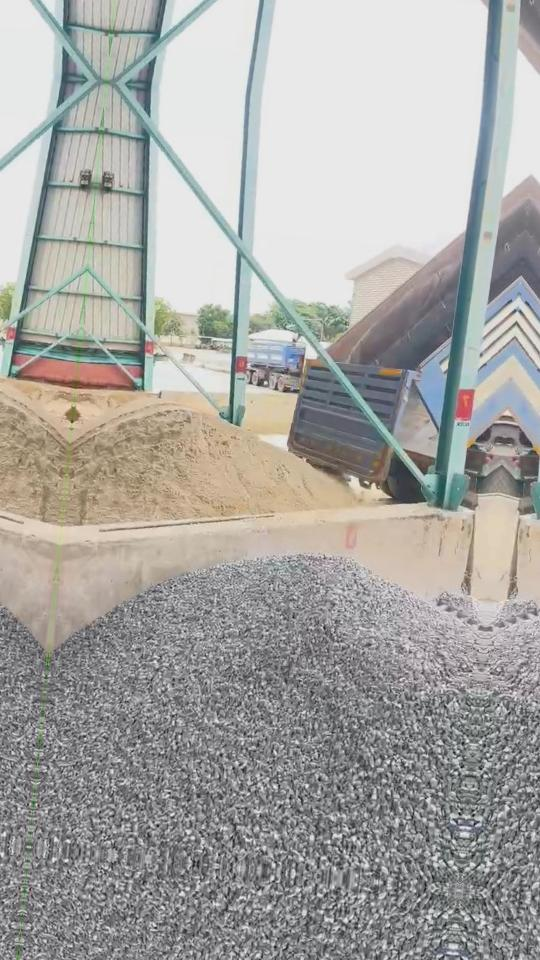gravel: (32, 555, 487, 890)
sand: (65, 396, 356, 524), (76, 388, 151, 419)
